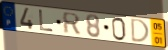0: (111, 17, 127, 42)
4: (19, 7, 35, 31)
8: (85, 14, 101, 39)
D: (131, 17, 151, 43)
L: (38, 9, 55, 33)
R: (62, 12, 82, 35)
